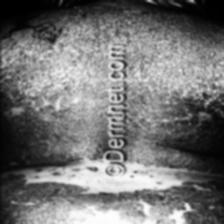Non-Cancerous Skin Condition: (0, 100, 93, 223), (138, 181, 224, 224)
